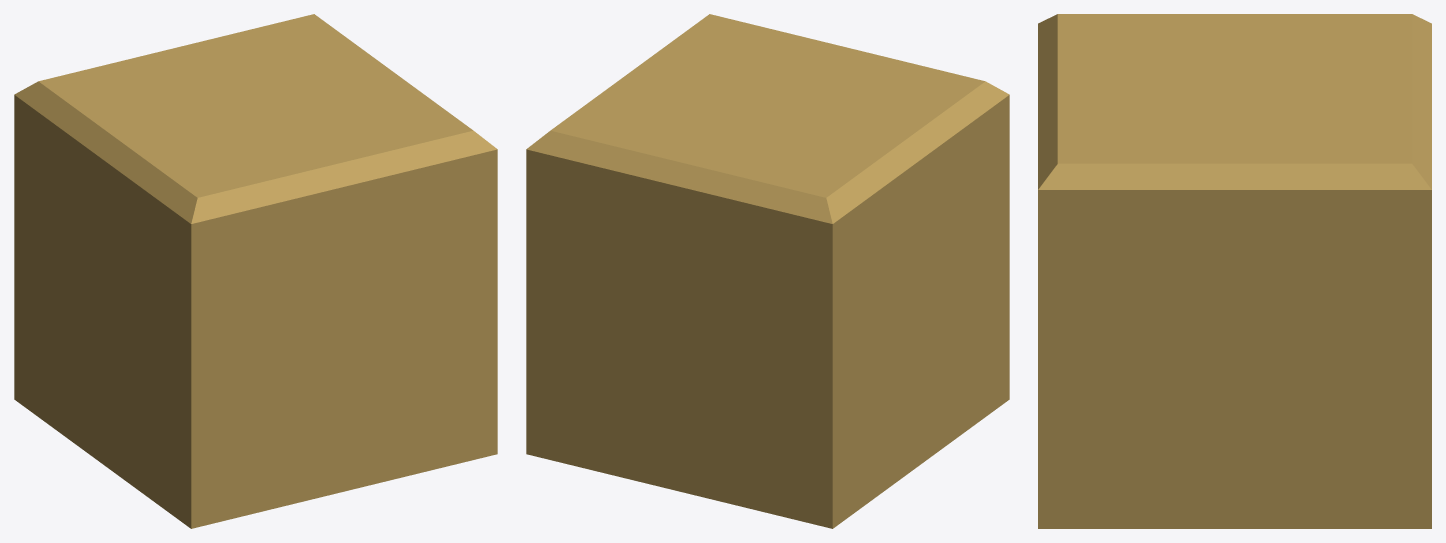
The model's file is wall_4.fbx.
The picture shows the model from 3 angles, left to right: view 1: azimuth 30°, elevation 25°; view 2: azimuth 150°, elevation 25°; view 3: azimuth 270°, elevation 25°; orthographic projection. The views are drawn at different scales.
Visible parts, largest first — view 1: wall_4; view 2: wall_4; view 3: wall_4.
Part boxes in pixels (x1,y1,x2,y2): wall_4: [14, 14, 497, 528]; wall_4: [526, 14, 1009, 528]; wall_4: [1038, 14, 1431, 528].
Size of the model in its own units: 100 by 100 by 100.
